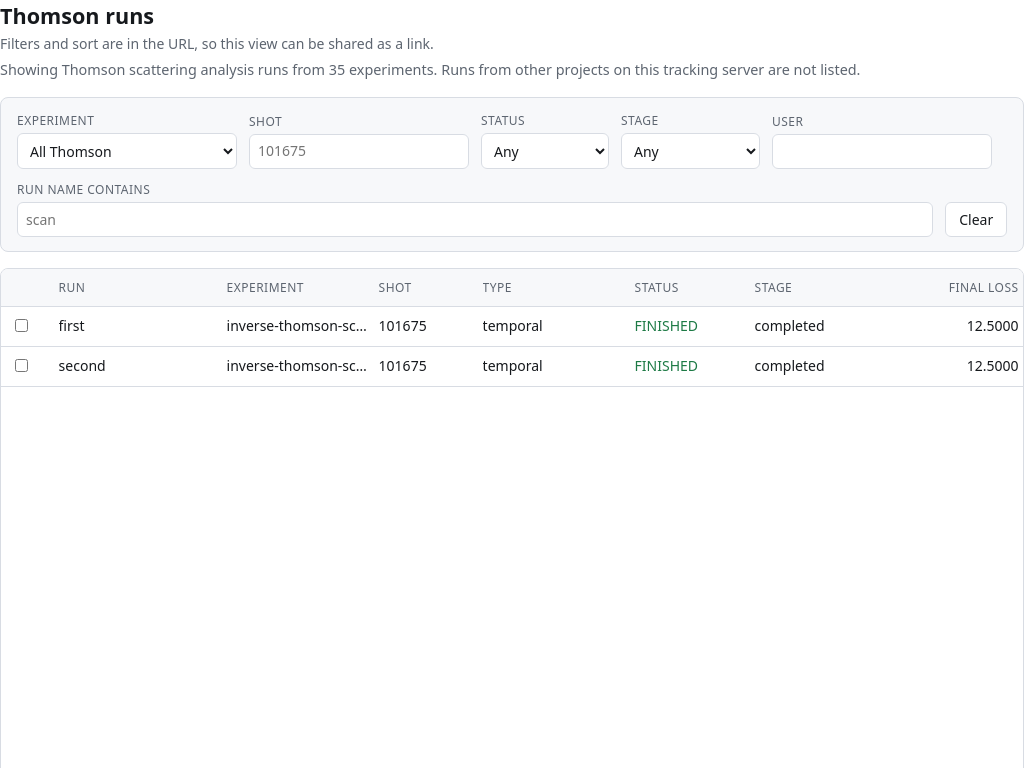
selection for the compare view › selecting rows builds a shareable /compare URL
Expected: the text "first" is shown, [59, 316, 85, 335]
Click the checkbox named "Select first" at (21, 325), box [15, 319, 28, 332]
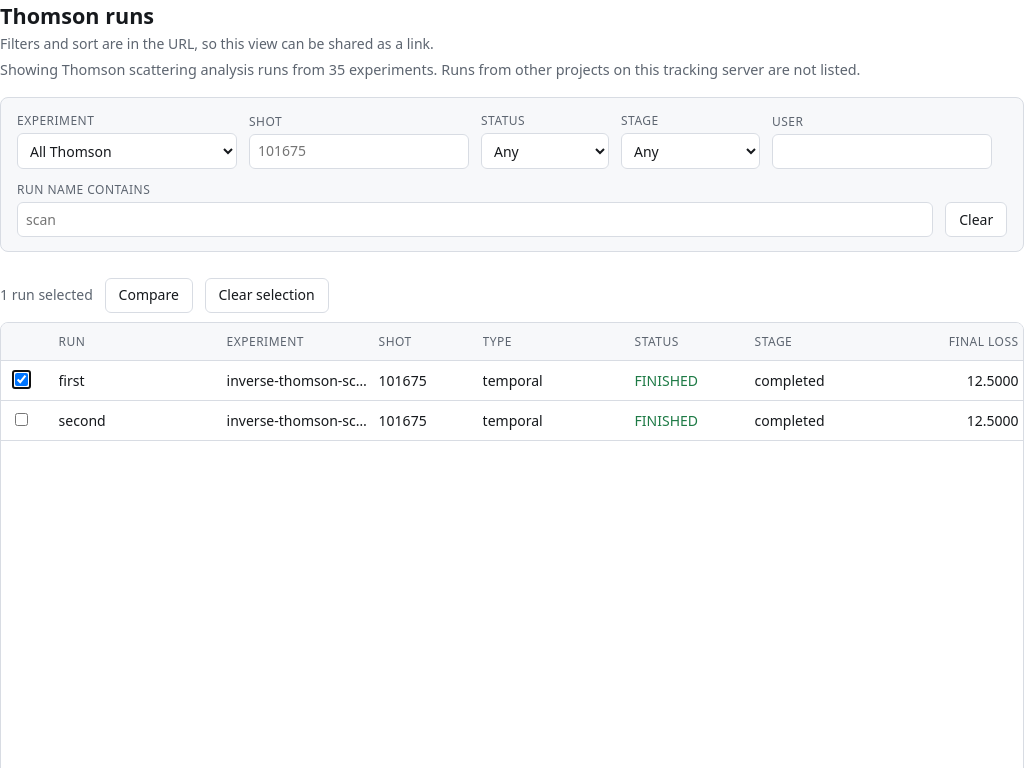
Click the checkbox named "Select second" at (21, 420), box [15, 413, 28, 426]
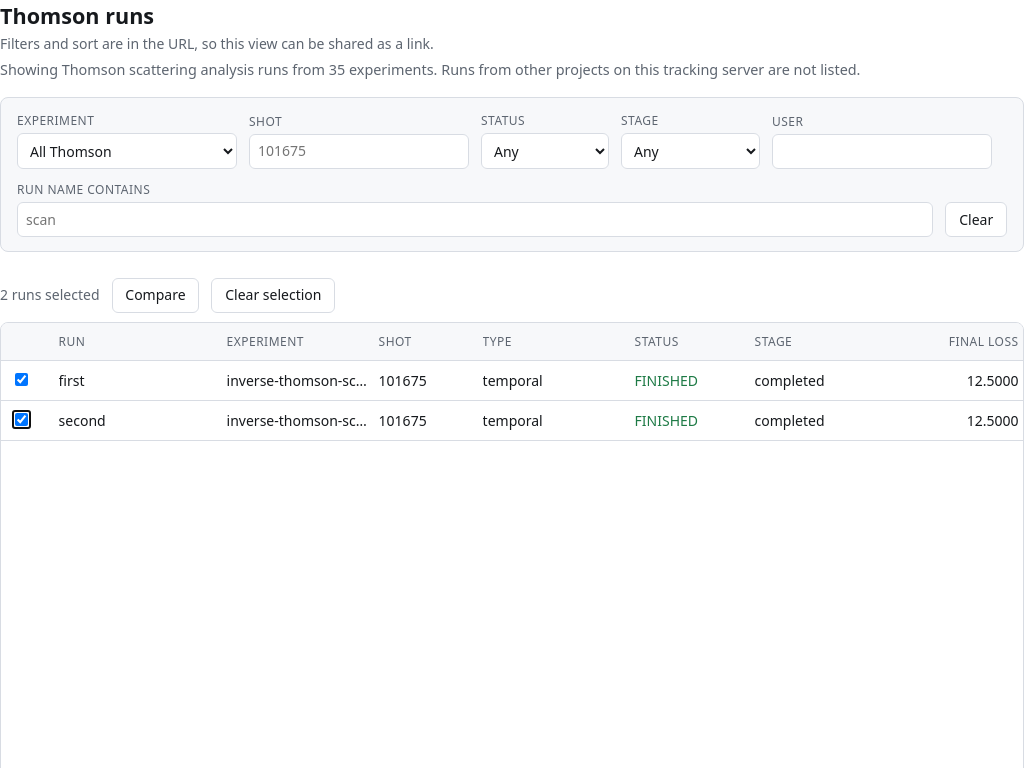
Result: the text "2 runs selected" is shown at [0, 285, 100, 305]
